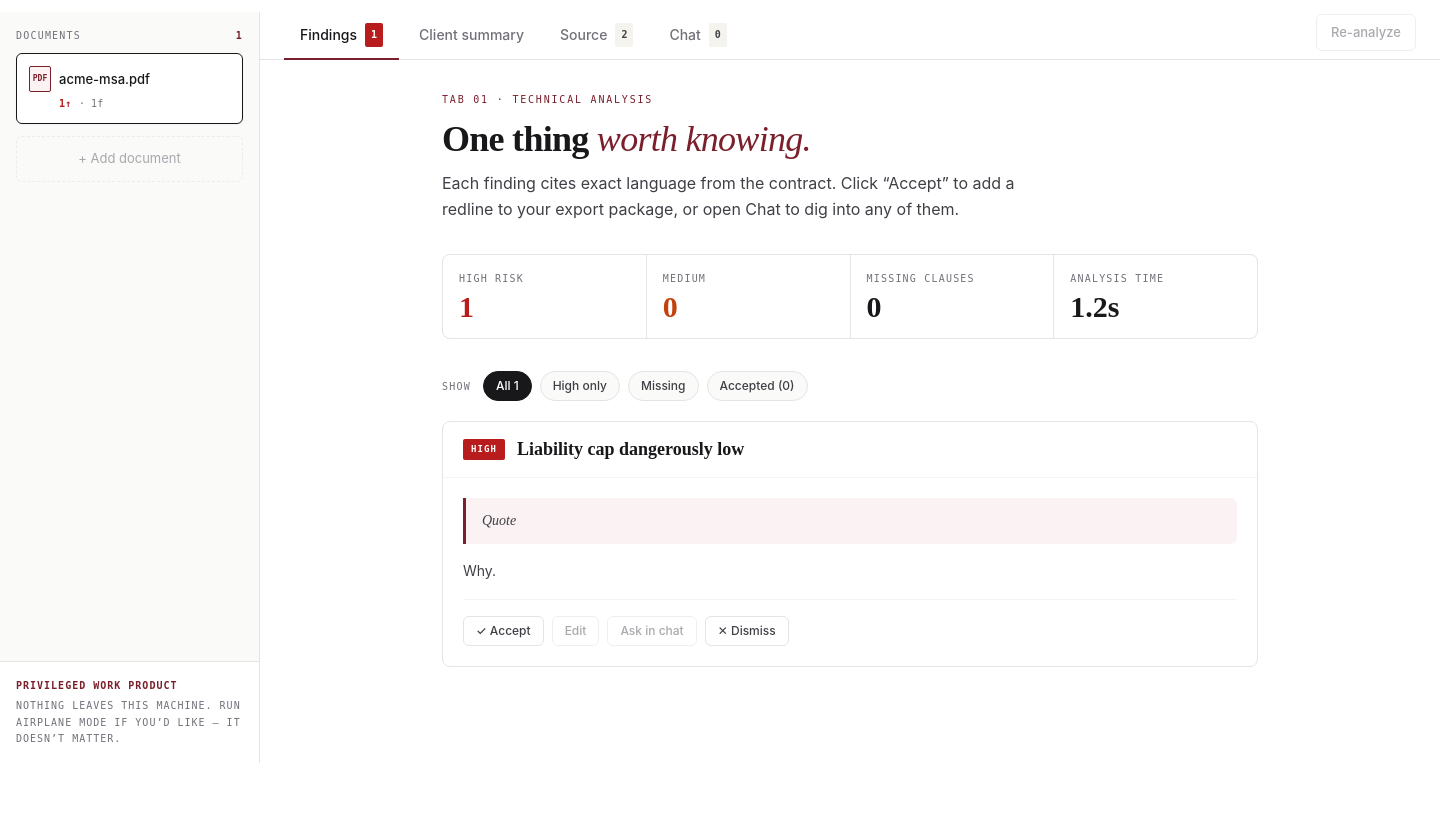
Test: <Review /> › clicking Source switches to the live Sprint 3 Source tab with section headings from analysis
The width and height of the screenshot is (1440, 822).
What coordinates should you click on to do the following:
click the button with test id "tab-source"
I would click on:
 (597, 36)
Its box is [544,12,649,60].
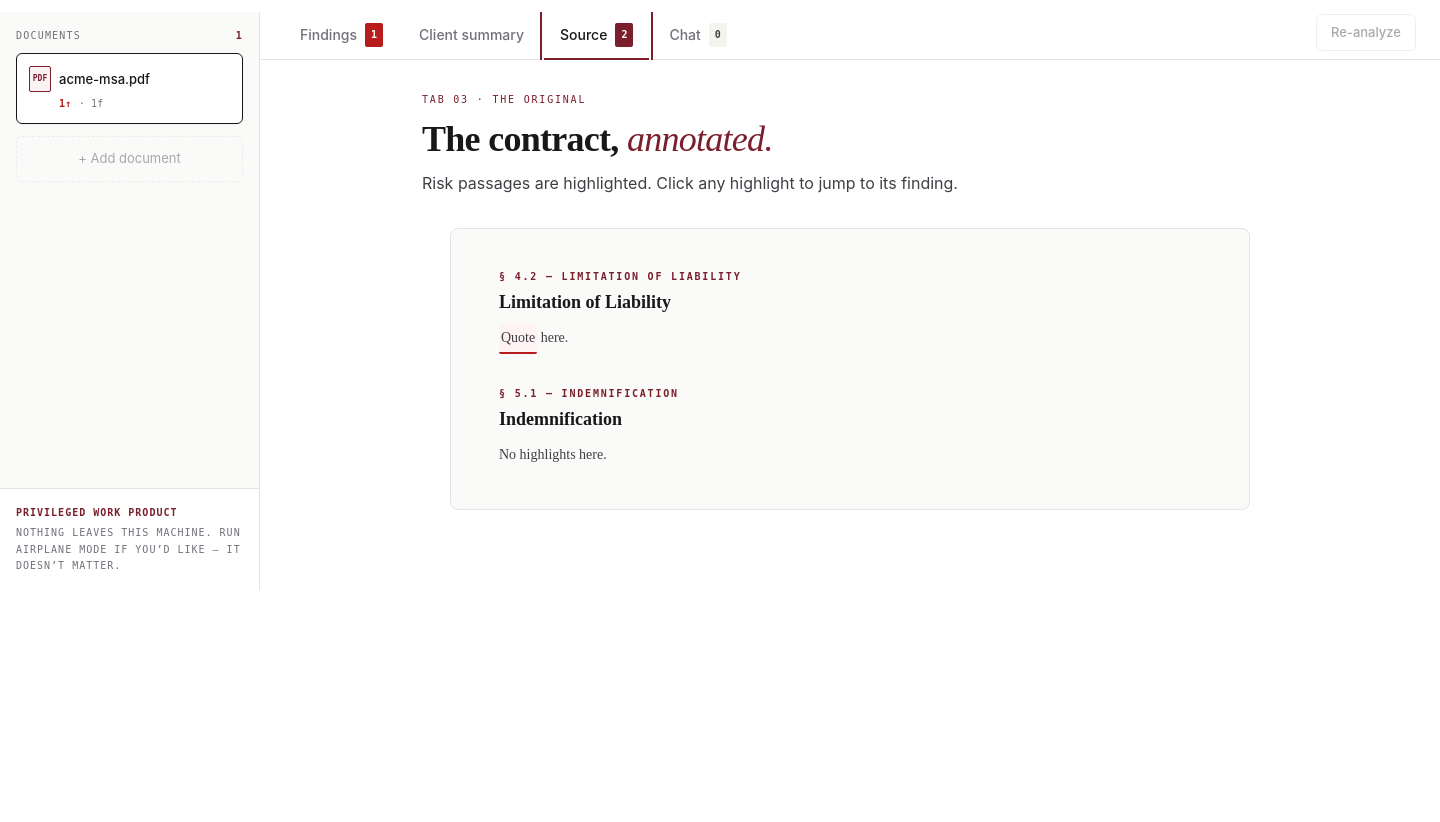
Result: the heading "Limitation of Liability" is shown at [499,292,671,312]
Result: the heading "Indemnification" is shown at [499,409,622,429]
